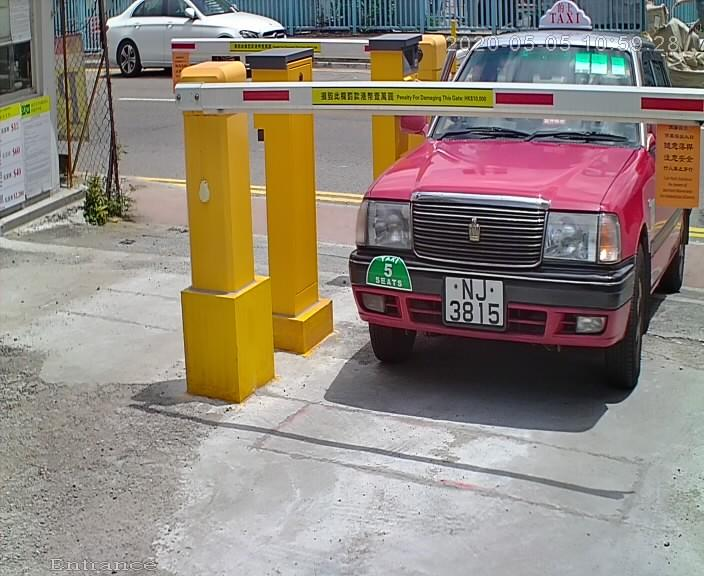Car: (339, 2, 704, 397)
License Plate: (437, 273, 516, 335)
